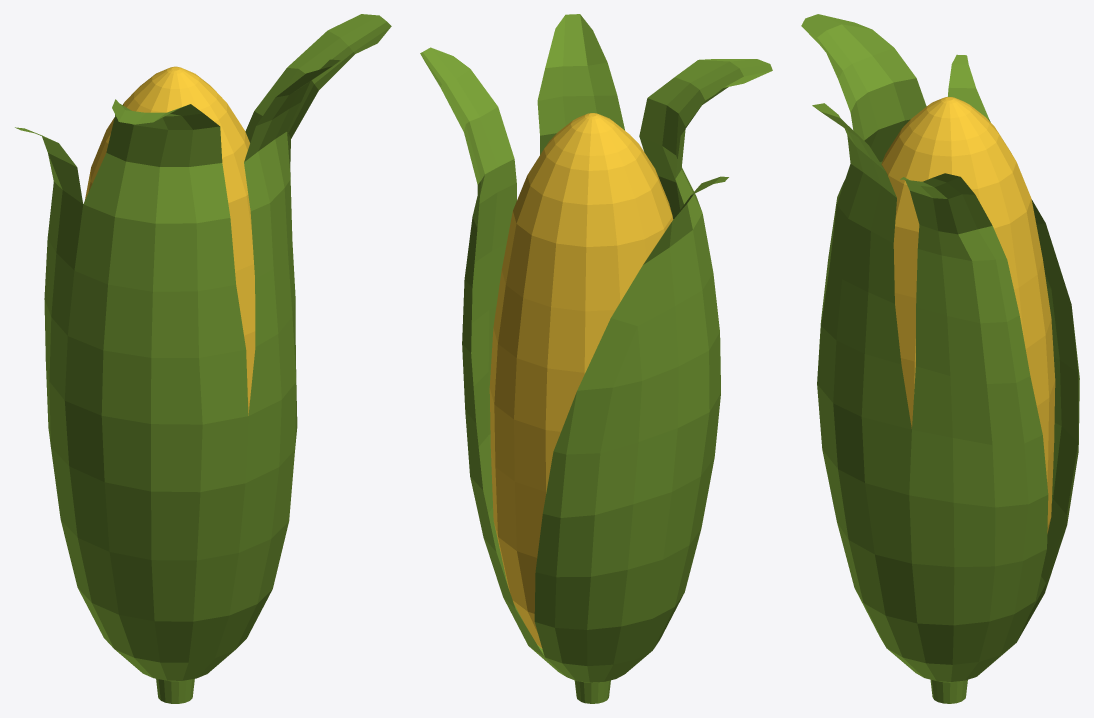
The model's file is korn.glb.
3 views of the same model, side by side, from view 1: azimuth 30°, elevation 25°; view 2: azimuth 150°, elevation 25°; view 3: azimuth 270°, elevation 25° (orthographic). The views are drawn at different scales.
Parts seen in each view (by area): view 1: korn_leaf, korn; view 2: korn_leaf, korn; view 3: korn_leaf, korn.
Boxes of the visible parts, <box> form: korn_leaf: <box>15,14,391,703</box>; korn: <box>85,66,255,415</box>; korn_leaf: <box>420,14,772,703</box>; korn: <box>489,113,673,648</box>; korn_leaf: <box>801,14,1079,703</box>; korn: <box>881,97,1055,533</box>.
Bounding box in the file's own units: 1.49 × 2.71 × 1.08.
1 material, 1 textured.
